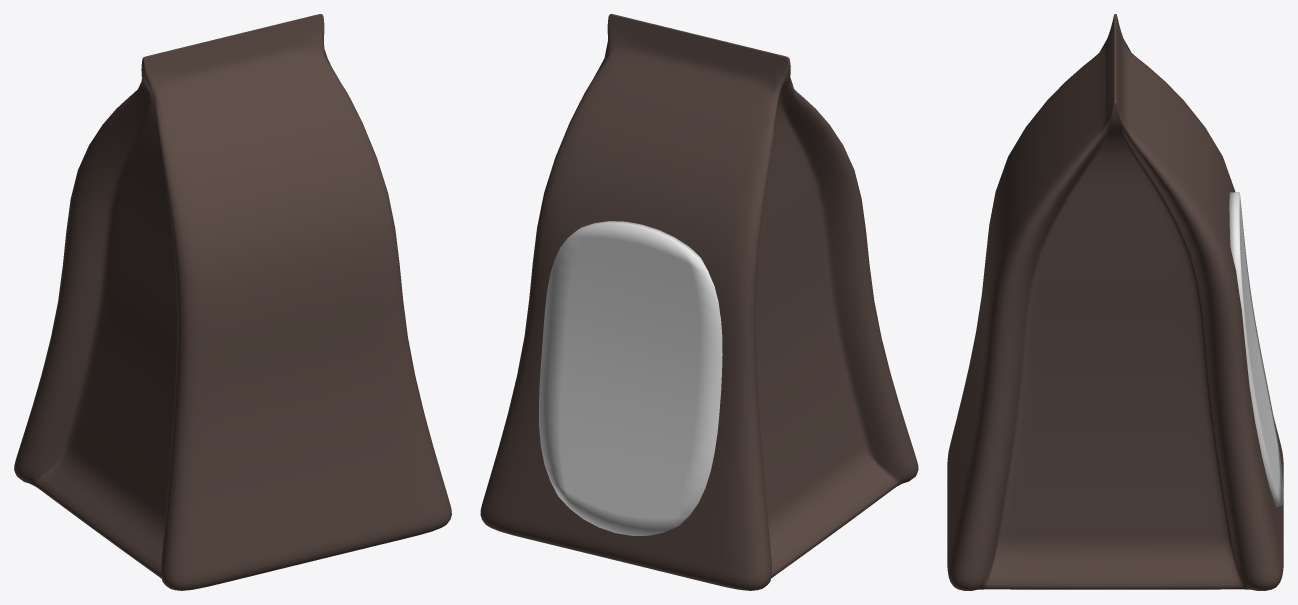
Rendered from Croquette.fbx.
The picture shows the model from 3 angles, left to right: view 1: azimuth 30°, elevation 25°; view 2: azimuth 150°, elevation 25°; view 3: azimuth 270°, elevation 25°; orthographic projection.
Visible parts, largest first — view 1: Plane; view 2: Plane, Plane.003; view 3: Plane, Plane.003.
Boxes of the visible parts, <box> form: Plane: <box>14,14,451,590</box>; Plane: <box>480,14,918,590</box>; Plane.003: <box>539,221,722,535</box>; Plane: <box>947,14,1283,590</box>; Plane.003: <box>1229,192,1283,506</box>.
Size of the model in its own units: 177 by 175 by 274.
